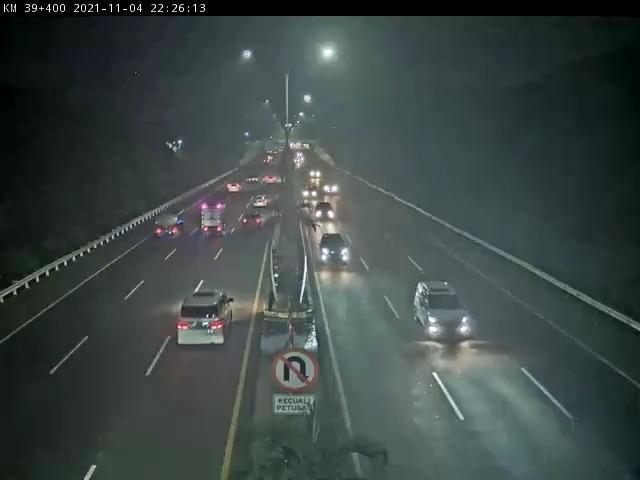car: (163, 280, 236, 372), (402, 284, 481, 343), (321, 236, 363, 267), (240, 210, 271, 245), (311, 196, 337, 218), (226, 181, 238, 203)
truck: (191, 187, 228, 239), (148, 208, 183, 258)
